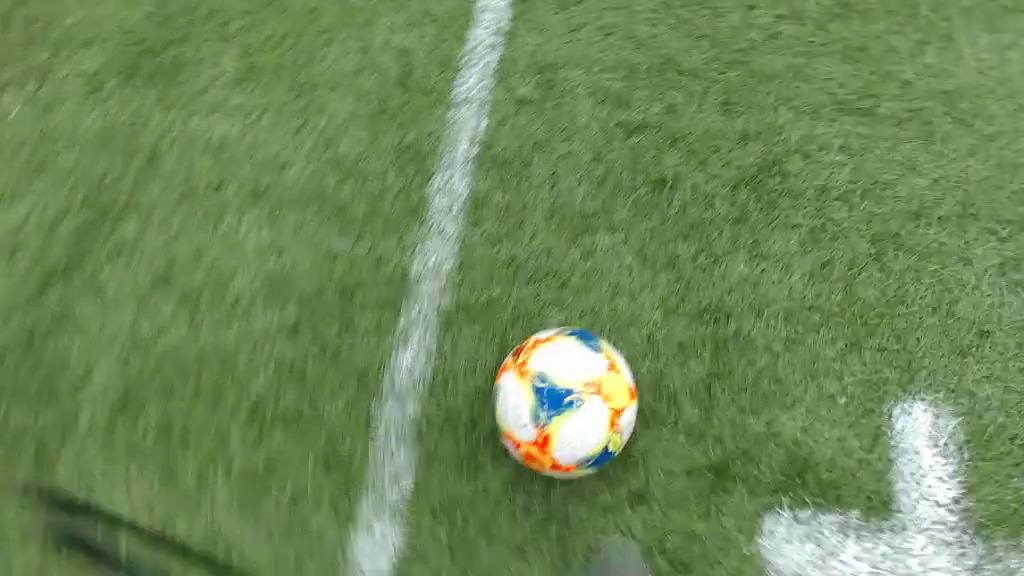ball: (493, 325, 637, 480)
